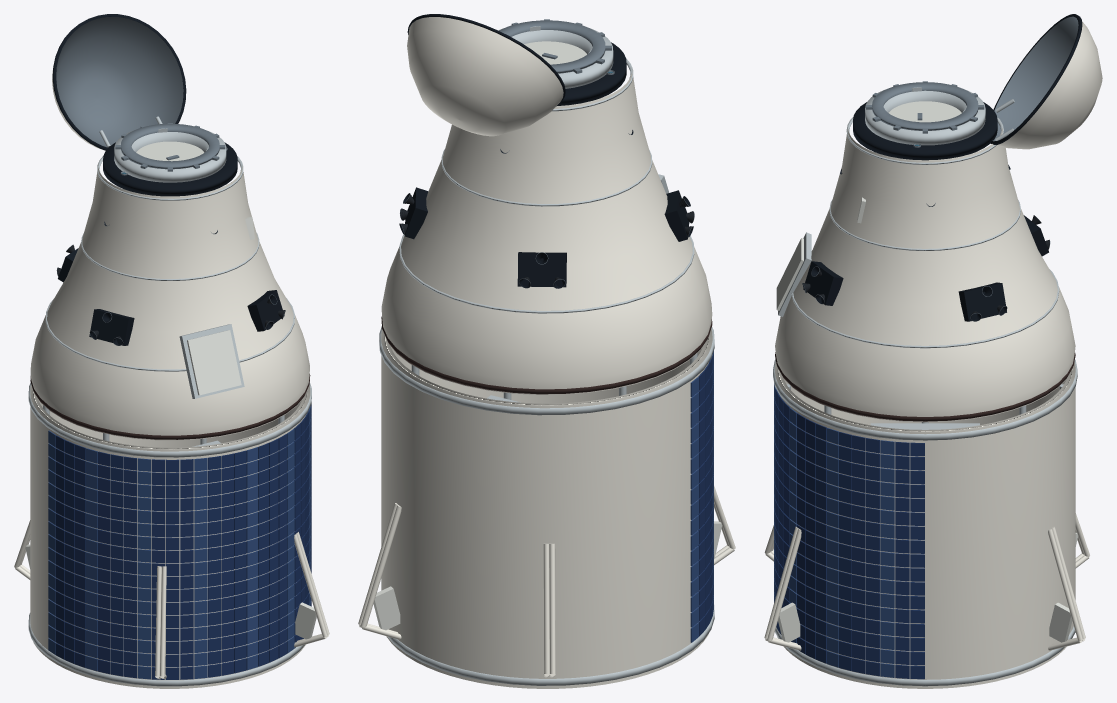
The model's file is cargo_dragon_2.glb.
3 views of the same model, side by side, from view 1: azimuth 30°, elevation 25°; view 2: azimuth 150°, elevation 25°; view 3: azimuth 270°, elevation 25° (orthographic). The views are drawn at different scales.
Visible parts, largest first — view 1: dragon_capsule.mesh_Warm_white_enamel, dragon_trunk.body_solar_array.mesh_Indigo_solar_cells, dragon_trunk.mesh_Warm_white_enamel, dragon_trunk.body_solar_array.mesh_Blue_photovoltaic_cells, dragon_nosecone.hinge.shell.mesh_Machined_steel, dragon_trunk.mesh_Satin_aluminum, dragon_capsule.side_hatch.mesh_Pale_thermal_blanket, dragon_dock.mesh_Satin_aluminum, dragon_dock.mesh_Shadowed_interior, dragon_dock.mesh_Machined_steel, dragon_capsule.mesh_Satin_aluminum, dragon_capsule.heat_shield.mesh_Ablative_thermal_protection (+8 smaller); view 2: dragon_trunk.mesh_Warm_white_enamel, dragon_capsule.mesh_Warm_white_enamel, dragon_nosecone.hinge.shell.mesh_Warm_white_enamel, dragon_trunk.mesh_Satin_aluminum, dragon_trunk.body_solar_array.mesh_Indigo_solar_cells, dragon_trunk.body_solar_array.mesh_Blue_photovoltaic_cells, dragon_capsule.mesh_Satin_aluminum, dragon_dock.mesh_Satin_aluminum, dragon_dock.mesh_Machined_steel, dragon_capsule.heat_shield.mesh_Ablative_thermal_protection, dragon_trunk.fin_03.mesh_Warm_white_enamel, dragon_draco.cluster_03.mesh_Shadowed_interior (+8 smaller); view 3: dragon_capsule.mesh_Warm_white_enamel, dragon_trunk.mesh_Warm_white_enamel, dragon_trunk.body_solar_array.mesh_Indigo_solar_cells, dragon_trunk.body_solar_array.mesh_Blue_photovoltaic_cells, dragon_nosecone.hinge.shell.mesh_Warm_white_enamel, dragon_trunk.mesh_Satin_aluminum, dragon_nosecone.hinge.shell.mesh_Machined_steel, dragon_dock.mesh_Satin_aluminum, dragon_dock.mesh_Shadowed_interior, dragon_dock.mesh_Machined_steel, dragon_capsule.mesh_Satin_aluminum, dragon_capsule.heat_shield.mesh_Ablative_thermal_protection (+11 smaller).
Boxes of the visible parts, x1,y1,x2,y2 form: dragon_capsule.mesh_Warm_white_enamel: (30,164,309,440); dragon_trunk.body_solar_array.mesh_Indigo_solar_cells: (56,404,311,679); dragon_trunk.mesh_Warm_white_enamel: (30,385,310,688); dragon_trunk.body_solar_array.mesh_Blue_photovoltaic_cells: (48,406,310,679); dragon_nosecone.hinge.shell.mesh_Machined_steel: (56,17,183,147); dragon_trunk.mesh_Satin_aluminum: (28,382,311,686); dragon_capsule.side_hatch.mesh_Pale_thermal_blanket: (187,330,241,395); dragon_dock.mesh_Satin_aluminum: (114,130,226,182); dragon_dock.mesh_Shadowed_interior: (103,142,237,196); dragon_dock.mesh_Machined_steel: (115,123,225,171); dragon_capsule.mesh_Satin_aluminum: (45,156,294,371); dragon_capsule.heat_shield.mesh_Ablative_thermal_protection: (30,374,310,439); dragon_trunk.mesh_Warm_white_enamel: (381,329,712,688); dragon_capsule.mesh_Warm_white_enamel: (381,67,712,394); dragon_nosecone.hinge.shell.mesh_Warm_white_enamel: (407,17,563,136); dragon_trunk.mesh_Satin_aluminum: (379,326,714,685); dragon_trunk.body_solar_array.mesh_Indigo_solar_cells: (698,356,713,636); dragon_trunk.body_solar_array.mesh_Blue_photovoltaic_cells: (690,351,713,642); dragon_capsule.mesh_Satin_aluminum: (399,59,694,313); dragon_dock.mesh_Satin_aluminum: (498,28,613,88); dragon_dock.mesh_Machined_steel: (499,19,611,73); dragon_capsule.heat_shield.mesh_Ablative_thermal_protection: (381,316,712,394); dragon_trunk.fin_03.mesh_Warm_white_enamel: (543,543,555,677); dragon_draco.cluster_03.mesh_Shadowed_interior: (517,252,566,287); dragon_capsule.mesh_Warm_white_enamel: (775,128,1075,422); dragon_trunk.mesh_Warm_white_enamel: (774,362,1075,688); dragon_trunk.body_solar_array.mesh_Indigo_solar_cells: (775,389,924,679); dragon_trunk.body_solar_array.mesh_Blue_photovoltaic_cells: (774,383,894,677); dragon_nosecone.hinge.shell.mesh_Warm_white_enamel: (997,21,1102,149); dragon_trunk.mesh_Satin_aluminum: (773,359,1077,686); dragon_nosecone.hinge.shell.mesh_Machined_steel: (992,16,1078,141); dragon_dock.mesh_Satin_aluminum: (865,89,985,145); dragon_dock.mesh_Shadowed_interior: (853,102,997,160); dragon_dock.mesh_Machined_steel: (866,81,984,133); dragon_capsule.mesh_Satin_aluminum: (791,117,1059,348); dragon_capsule.heat_shield.mesh_Ablative_thermal_protection: (775,352,1075,421).
Size of the model in its own units: 4.02 by 8.78 by 4.46.
